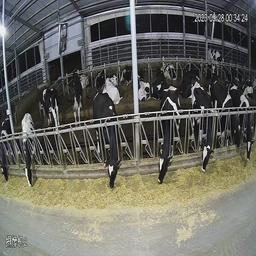cow: (207, 69, 245, 167), (91, 91, 123, 201), (189, 78, 219, 188), (151, 77, 178, 195), (15, 108, 40, 194), (234, 83, 252, 174), (35, 79, 63, 136), (67, 64, 87, 119), (176, 54, 198, 99), (102, 64, 125, 104), (149, 55, 169, 97), (1, 110, 11, 185), (206, 37, 224, 71), (138, 64, 152, 105)
